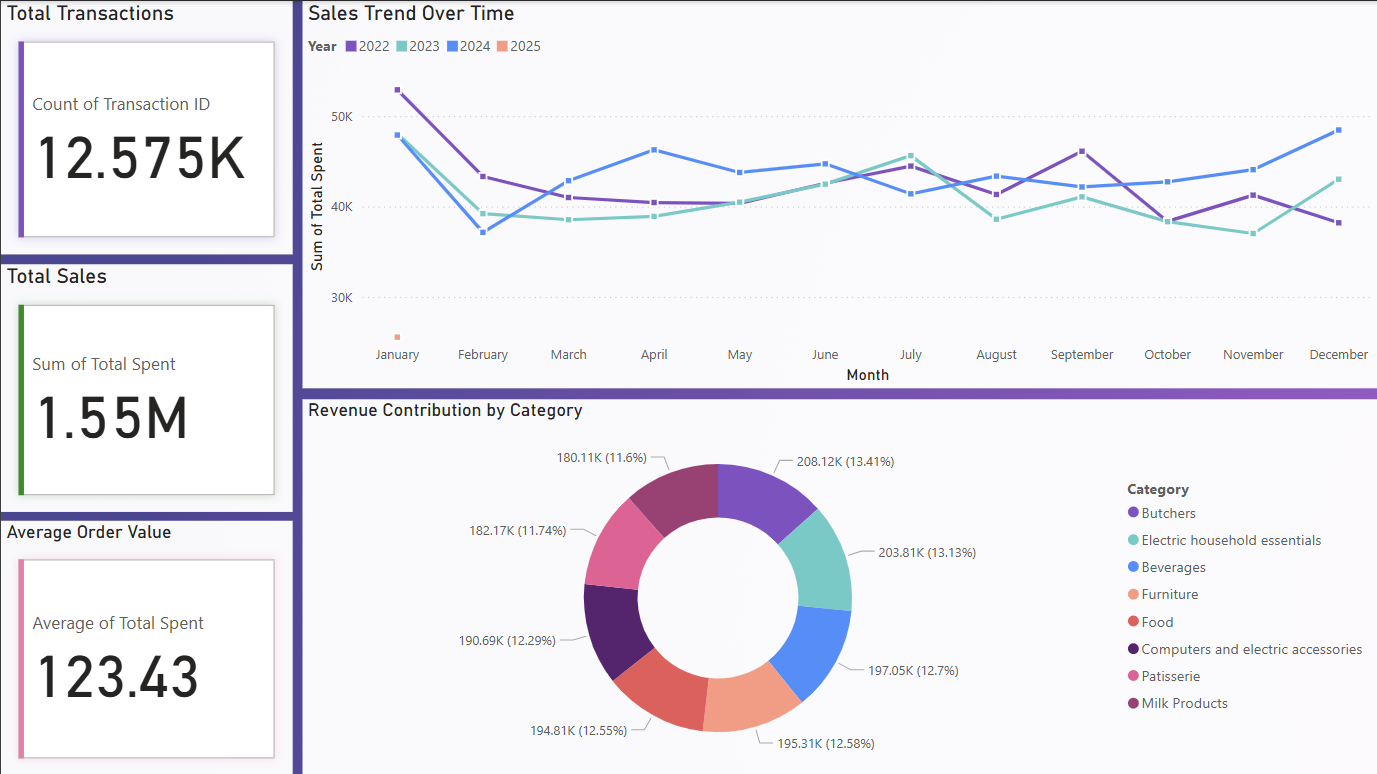

The page's visual inventory and layout, read from the dashboard file:
{"tool":"powerbi","page":{"name":"Overview and KPI metrics","canvas":[1280,720],"ordinal":0},"visuals":[{"type":"lineChart","title":"Sales Trend Over Time","fields":{"Y":["Sum(visual_retail_sales_data.Total Spent)"],"Series":["visual_retail_sales_data.Year-Month.Variation.Date Hierarchy.Year"],"Category":["visual_retail_sales_data.Year-Month.Variation.Date Hierarchy.Month"]},"box":[280.2,0,999.6,359.7],"z":0},{"type":"cardVisual","title":"Total Sales","fields":{"Data":["Sum(visual_retail_sales_data.Total Spent)"]},"box":[0,244.7,270.8,230.5],"z":1000},{"type":"cardVisual","title":"Total Transactions","fields":{"Data":["Count(visual_retail_sales_data.Transaction ID)"]},"box":[0,0,270.8,236],"z":2000},{"type":"cardVisual","title":"Average Order Value","fields":{"Data":["Avg(visual_retail_sales_data.Total Spent)"]},"box":[0,482.8,270.8,237.1],"z":3000},{"type":"donutChart","title":"Revenue Contribution by Category","fields":{"Y":["Sum(visual_retail_sales_data.Total Spent)"],"Category":["visual_retail_sales_data.Category"]},"box":[280.2,370.2,999.6,349.2],"z":4000}]}

Visuals, with their boxes in screenshot pixels (x1, y1, x2, y2), scaled from the page's 1280x720 canvas onto the 1377x774 screenshot:
"Sales Trend Over Time" lineChart: pyautogui.locateOnScreen(301, 0, 1376, 387)
"Total Sales" cardVisual: pyautogui.locateOnScreen(0, 263, 291, 511)
"Total Transactions" cardVisual: pyautogui.locateOnScreen(0, 0, 291, 254)
"Average Order Value" cardVisual: pyautogui.locateOnScreen(0, 519, 291, 773)
"Revenue Contribution by Category" donutChart: pyautogui.locateOnScreen(301, 398, 1376, 773)
